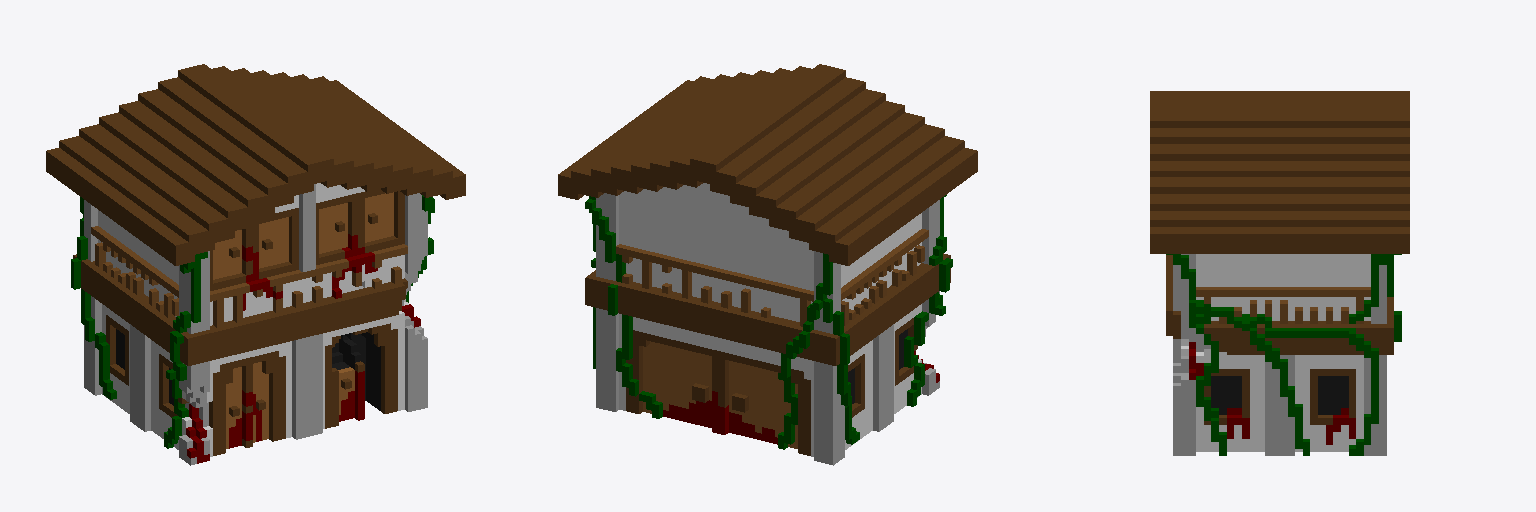
3 renders of one model, left to right at view 1: azimuth 30°, elevation 25°; view 2: azimuth 150°, elevation 25°; view 3: azimuth 270°, elevation 25°, orthographic.
Parts seen in each view (by area): view 1: object 1; view 2: object 1; view 3: object 1.
Part boxes in pixels (left/top/right/bottom): object 1: left=46, top=64, right=465, bottom=465; object 1: left=558, top=64, right=977, bottom=465; object 1: left=1150, top=91, right=1409, bottom=455.
Bounding box in the file's own units: 4.4 × 4.1 × 3.4.
Materials: 1 (1 with a texture image).